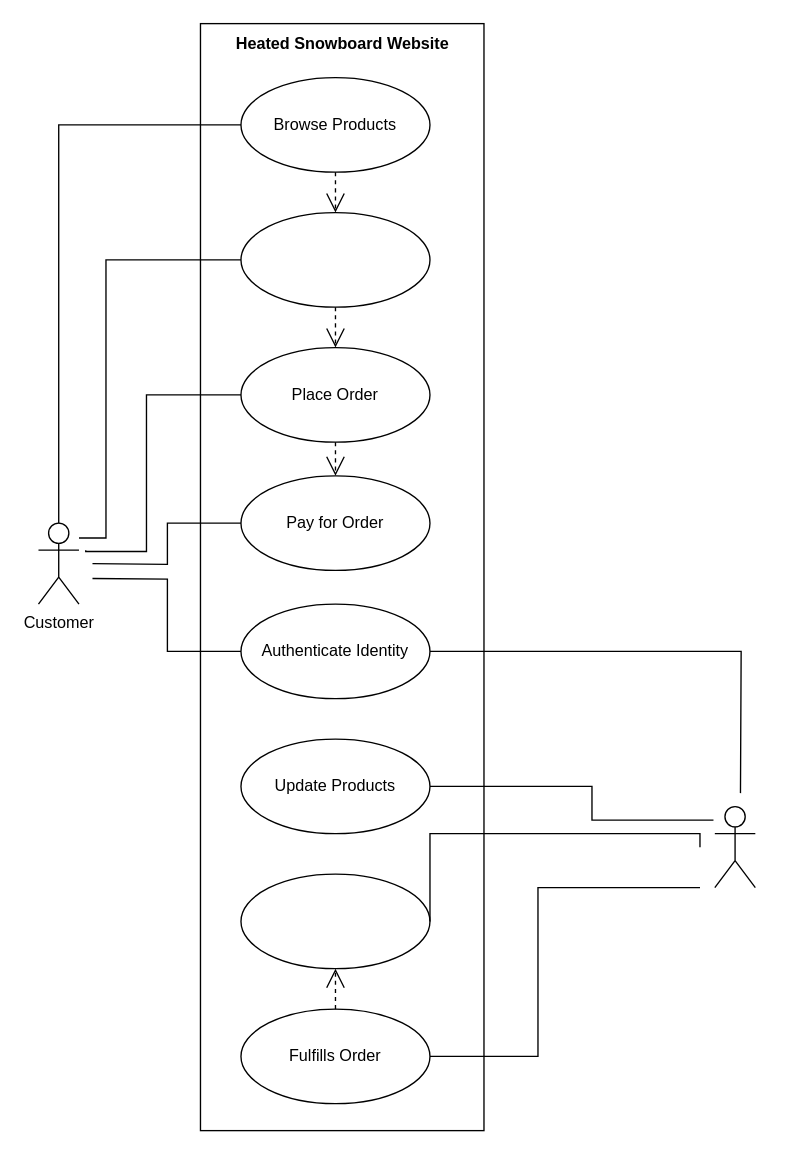
Some shapes in this 811 by 1154 pixel diagram are drawn without their labels. The centre of each missing label's shape, as x and y in pixels:
"Add Products to Shopping Cart" goes at point 335,259.
"Update Inventory" goes at point 335,921.
"Website Admin" goes at point 734,846.
